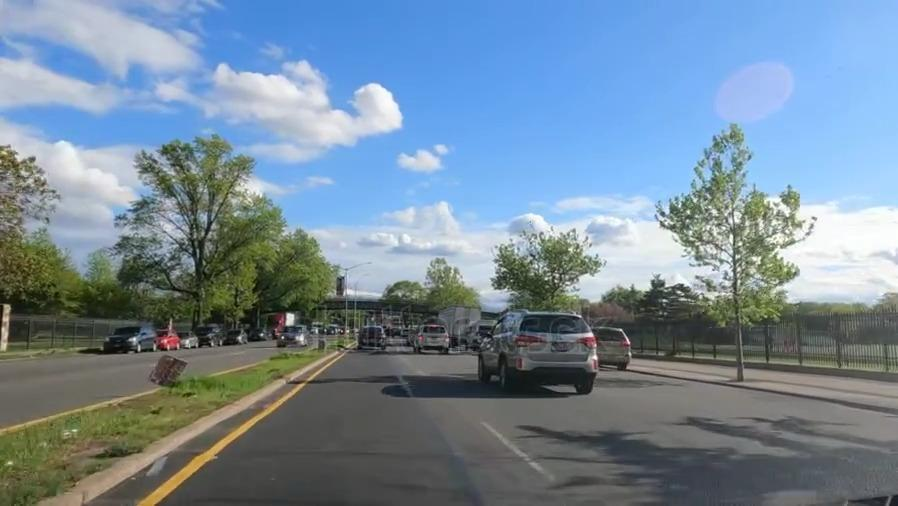car: (486, 311, 598, 393), (594, 324, 638, 362), (100, 327, 155, 351), (412, 323, 453, 352), (358, 325, 390, 348), (156, 329, 178, 351), (197, 328, 221, 348), (224, 328, 247, 343), (178, 333, 198, 347)
